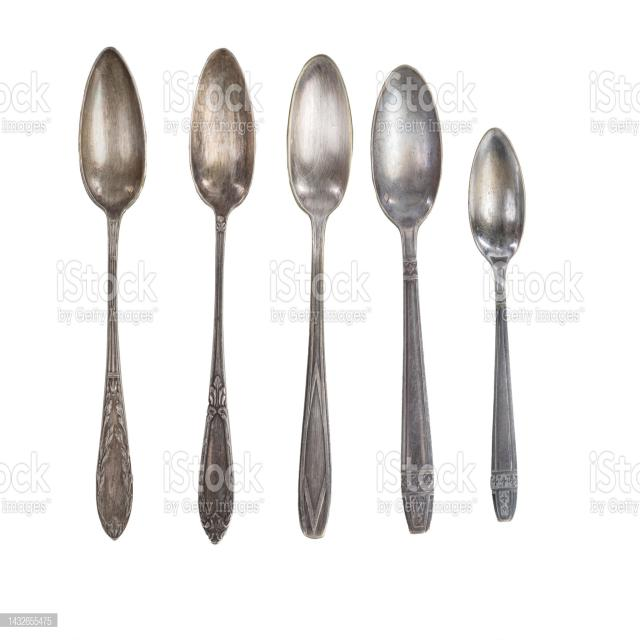spoon: (456, 115, 540, 531)
